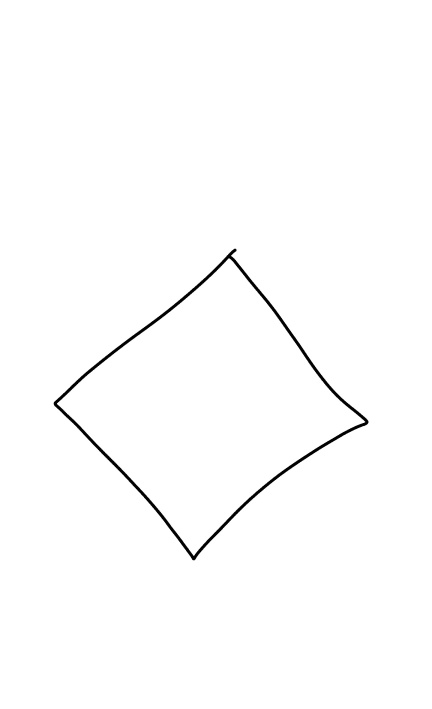Square: (50, 244, 372, 565)
